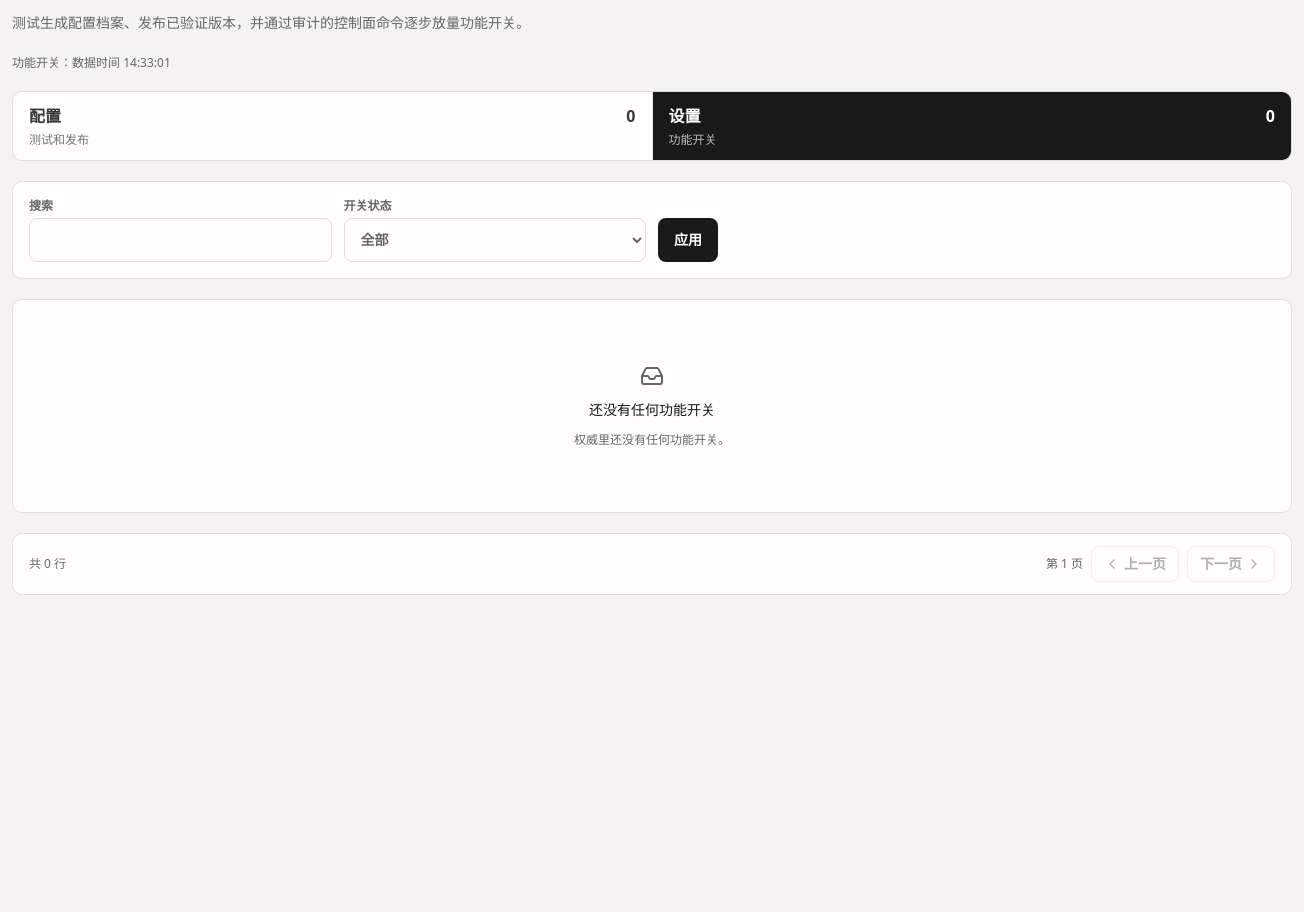
Test: Chinese locale: workspace chrome › translates the filter labels instead of printing the raw prop
Check: the text "配置档案模式" is not shown
Click the button "配置 0 测试和发布": (45, 116) [13,92,652,160]
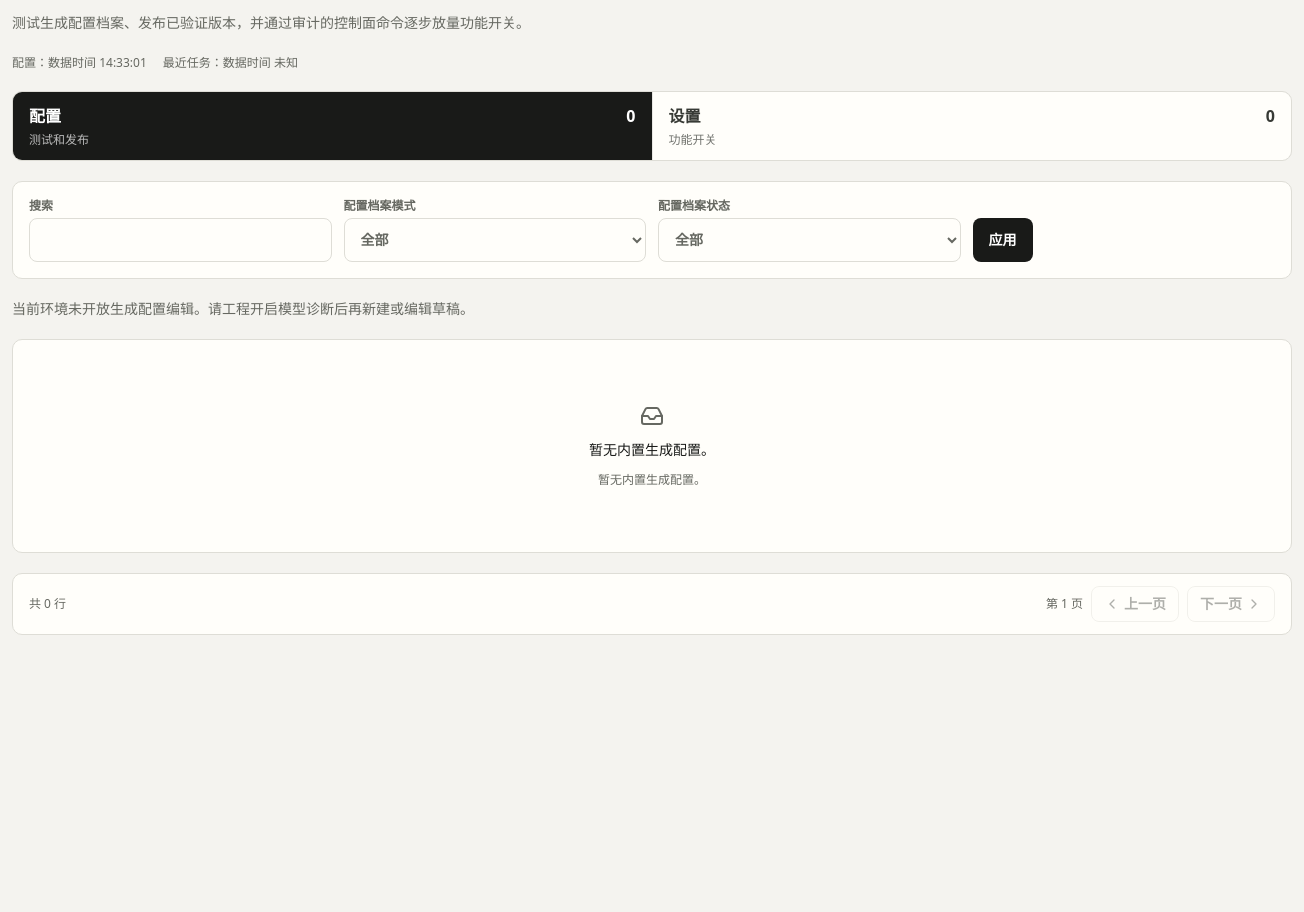
Check: the text "配置档案模式" is shown, box [344,198,646,262]
Check: the text "配置档案状态" is shown, box [658,198,960,262]
Check: the text "开关状态" is gone
